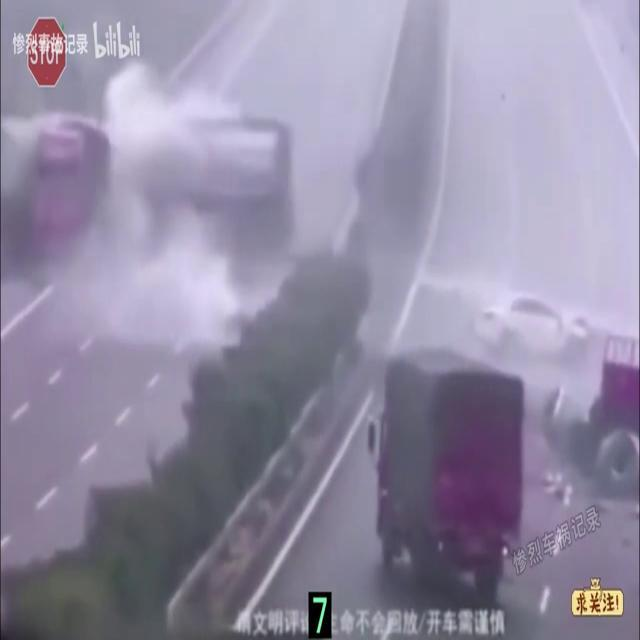multiple_accident: (17, 89, 309, 303), (435, 262, 640, 511)
